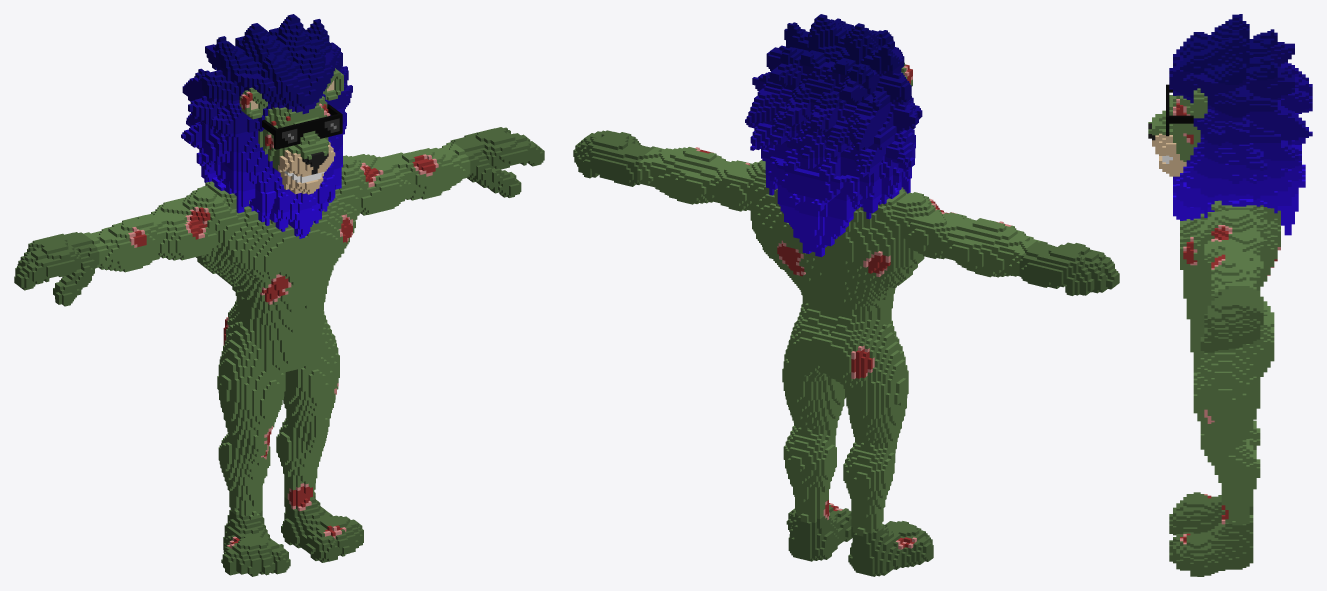
The model's file is 225-Blpb__Io.glb.
3 renders of one model, left to right at view 1: azimuth 30°, elevation 25°; view 2: azimuth 150°, elevation 25°; view 3: azimuth 270°, elevation 25°, orthographic. The views are drawn at different scales.
Parts seen in each view (by area): view 1: big_smile; view 2: big_smile; view 3: big_smile.
Part boxes in pixels (x1,y1,x2,y2): big_smile: (14, 14, 544, 576); big_smile: (573, 14, 1119, 576); big_smile: (1148, 14, 1312, 576).
Size of the model in its own units: 17.2 by 16.5 by 4.7.
Materials: 4 (4 with a texture image).
